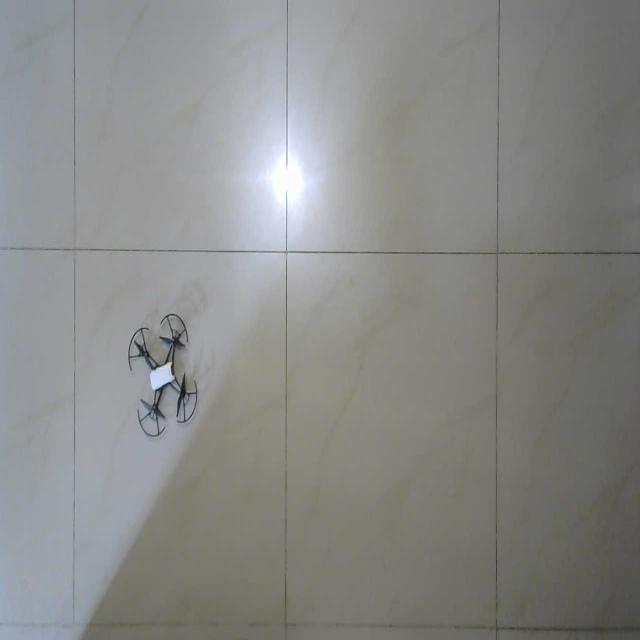drone: (129, 312, 199, 438)
